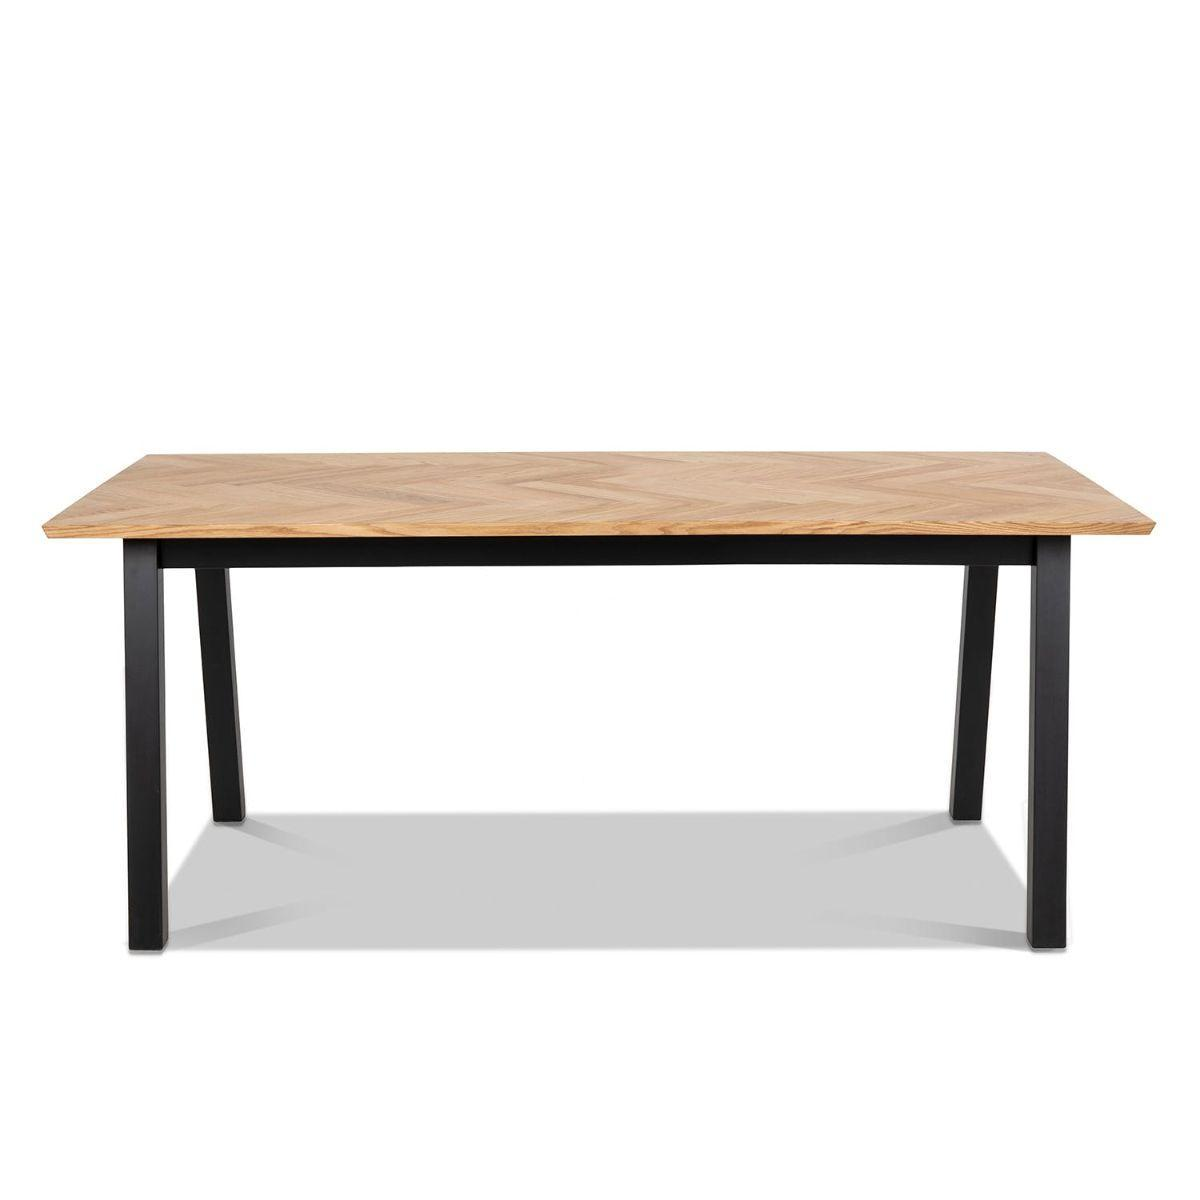Table: (31, 406, 1156, 1002)
